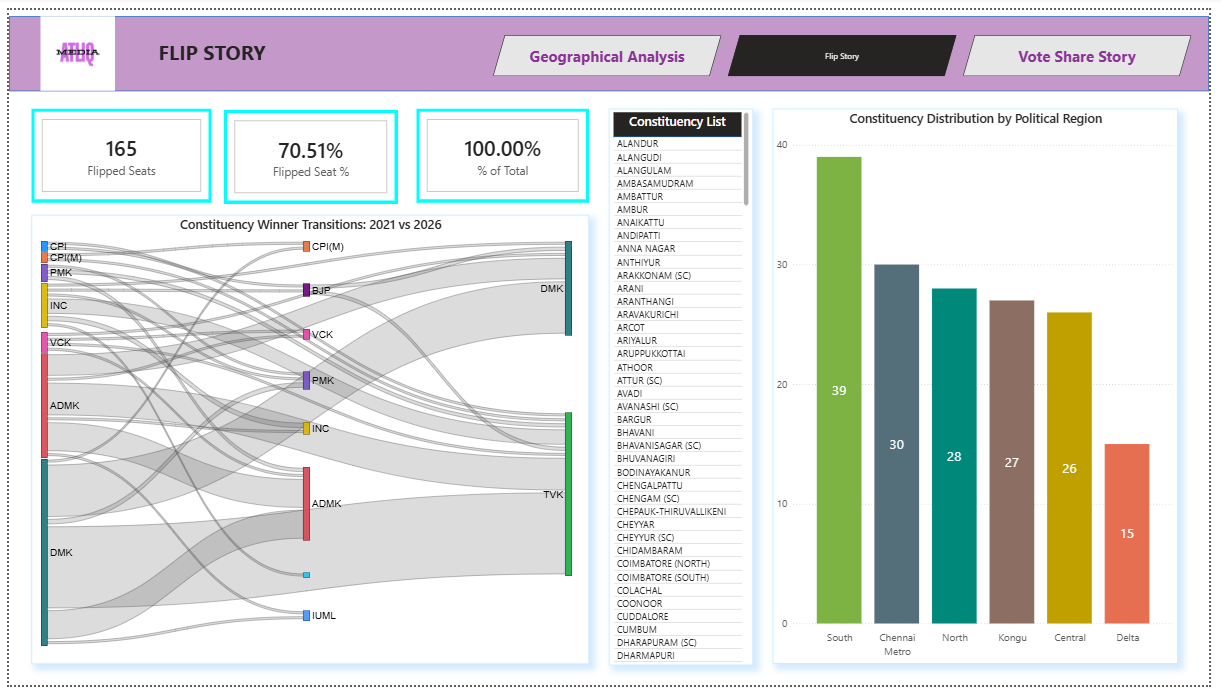

What the dashboard file says about the page in this screenshot:
{"tool":"powerbi","page":{"name":"Flip Story","canvas":[1920,1080],"ordinal":1},"visuals":[{"type":"shape","box":[0,10,1920,120],"z":0},{"type":"cardVisual","fields":{"Data":["Measures (2).Flipped Seats"]},"box":[36,158,288,150],"z":1000},{"type":"sankey02300D1BE6F5427989F3DE31CCA9E0F32020","title":"Constituency Winner Transitions: 2021 vs 2026","fields":{"Source":["tn_election_analysis mart_constituency_flips.winner_2021"],"Destination":["tn_election_analysis mart_constituency_flips.winner_2026"],"Weight":["CountNonNull(tn_election_analysis mart_constituency_flips.constituency_name)"]},"box":[36,328,892,718],"z":2000},{"type":"columnChart","title":"Constituency Distribution by Political Region","fields":{"Y":["Measures (2).Count of Constituency"],"Category":["dim_constituency.region"]},"box":[1222,158,648,888],"z":3000},{"type":"textbox","box":[212,40,226,70],"z":4000},{"type":"cardVisual","fields":{"Data":["Measures (2).Flipped Seat %"]},"box":[344,160,278,150],"z":5000},{"type":"cardVisual","fields":{"Data":["Measures (2).% of Total"]},"box":[652,158,276,150],"z":6000},{"type":"tableEx","fields":{"Values":["tn_election_analysis mart_constituency_flips.constituency_name"]},"box":[960,158,230,890],"z":7000},{"type":"pageNavigator","box":[774,40,1118,66],"z":8000},{"type":"image","box":[43.4,10.9,132.1,119.4],"z":8001}]}

Visuals, with their boxes in screenshot pixels (x1, y1, x2, y2), scaled from the page's 1920x1080 canvas onto the 1221x697 screenshot:
shape: x1=0 y1=6 x2=1220 y2=84
cardVisual - Measures (2).Flipped Seats: x1=23 y1=102 x2=206 y2=199
"Constituency Winner Transitions: 2021 vs 2026" sankey02300D1BE6F5427989F3DE31CCA9E0F32020: x1=23 y1=212 x2=590 y2=675
"Constituency Distribution by Political Region" columnChart: x1=777 y1=102 x2=1189 y2=675
textbox: x1=135 y1=26 x2=279 y2=71
cardVisual - Measures (2).Flipped Seat %: x1=219 y1=103 x2=396 y2=200
cardVisual - Measures (2).% of Total: x1=415 y1=102 x2=590 y2=199
tableEx - tn_election_analysis mart_constituency_flips.constituency_name: x1=610 y1=102 x2=757 y2=676
pageNavigator: x1=492 y1=26 x2=1203 y2=68
image: x1=28 y1=7 x2=112 y2=84
